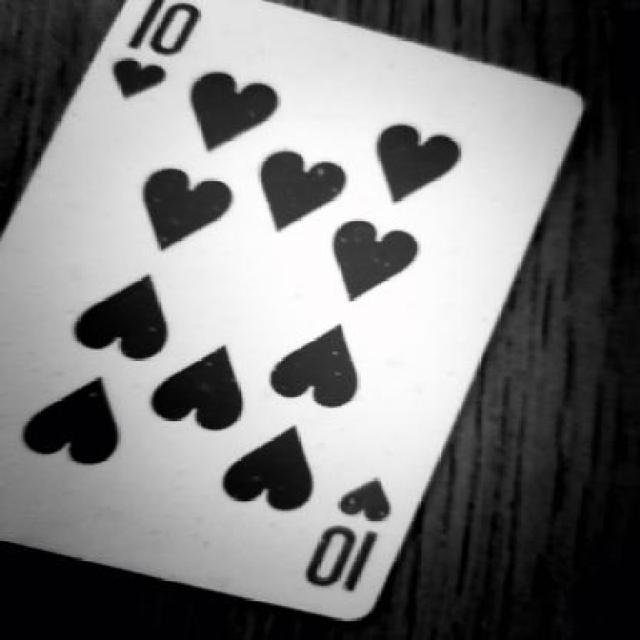10H: (293, 467, 430, 605), (90, 0, 227, 108)
